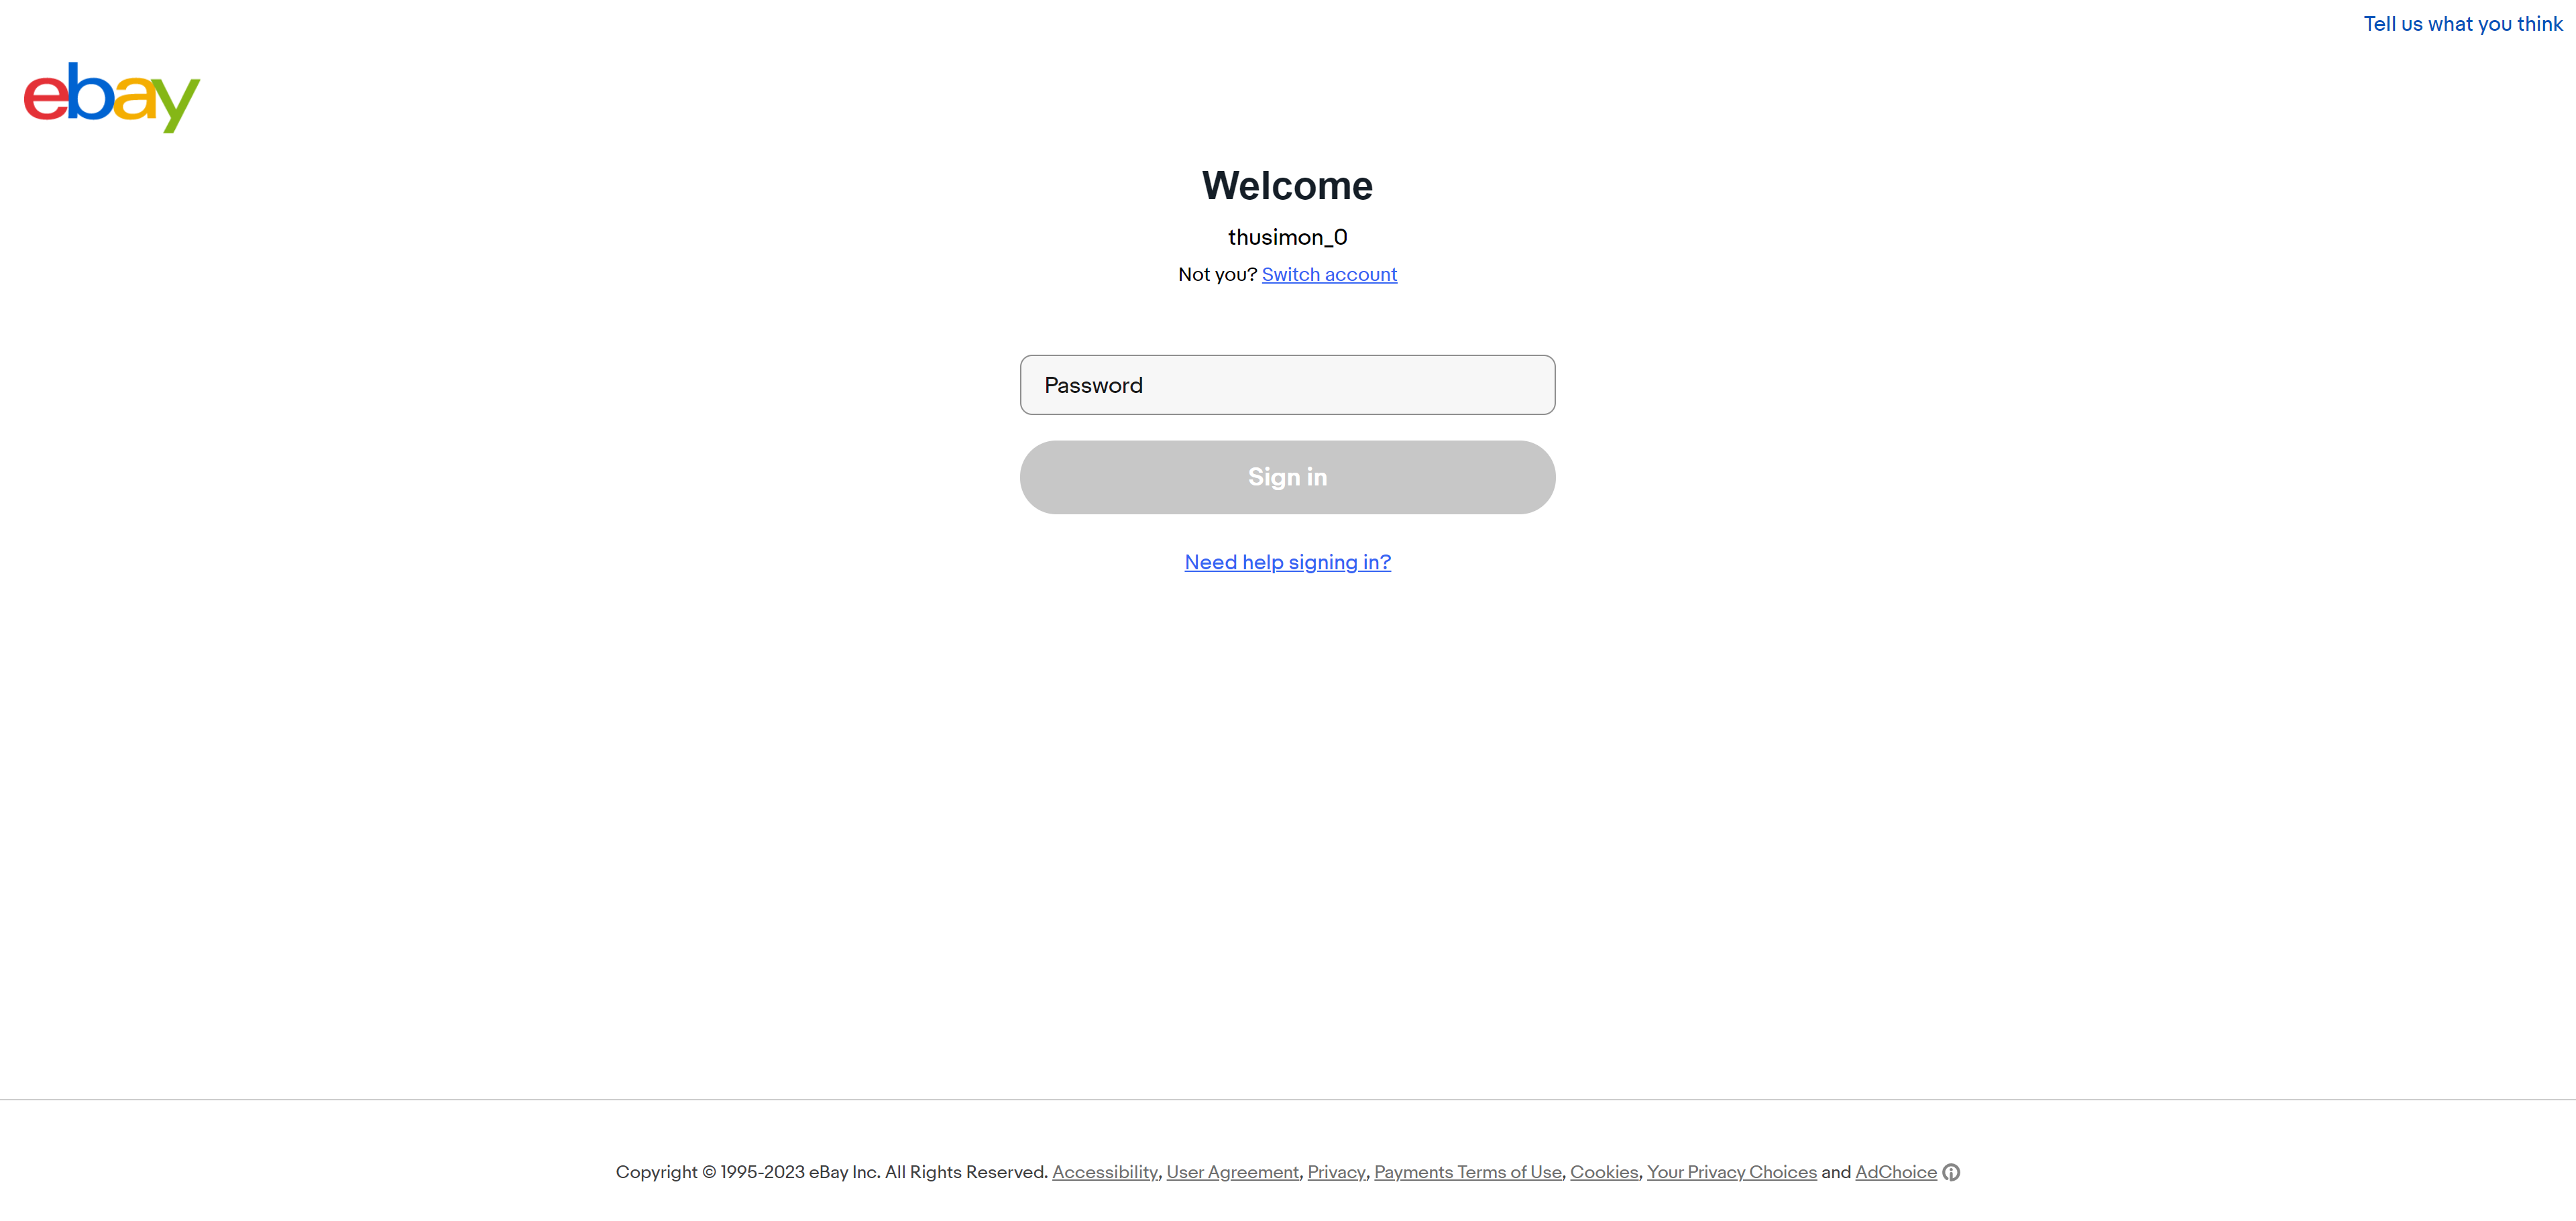login_button: (1020, 440, 1556, 514)
login_form: (1015, 350, 1562, 521)
